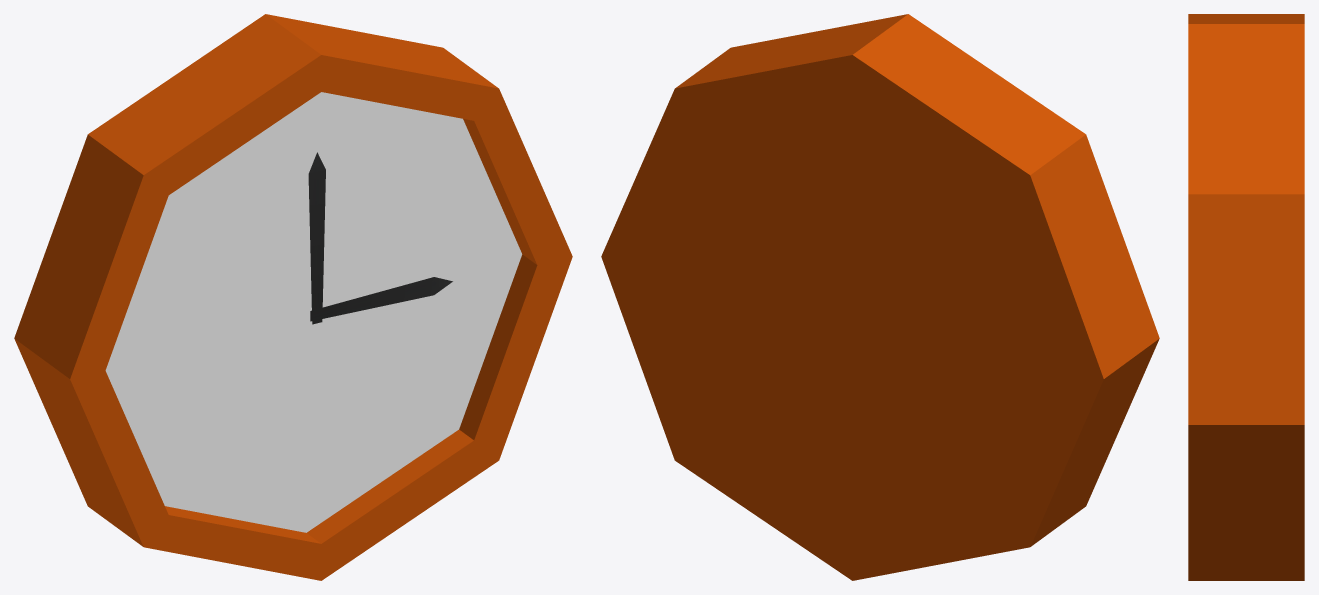
The model's file is Clock lv1.fbx.
The picture shows the model from 3 angles, left to right: view 1: azimuth 30°, elevation 25°; view 2: azimuth 150°, elevation 25°; view 3: azimuth 270°, elevation 25°; orthographic projection. The views are drawn at different scales.
Parts seen in each view (by area): view 1: Clock_lv1; view 2: Clock_lv1; view 3: Clock_lv1.
Boxes of the visible parts, x1,y1,x2,y2 form: Clock_lv1: (14, 14, 572, 580); Clock_lv1: (601, 14, 1159, 580); Clock_lv1: (1188, 14, 1304, 580).
Size of the model in its own units: 74.91 by 74.91 by 14.43.
